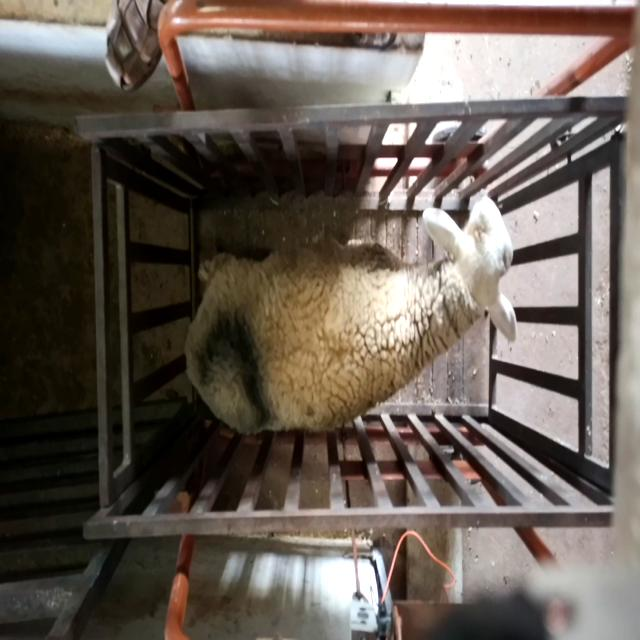sheep: (186, 197, 518, 435)
